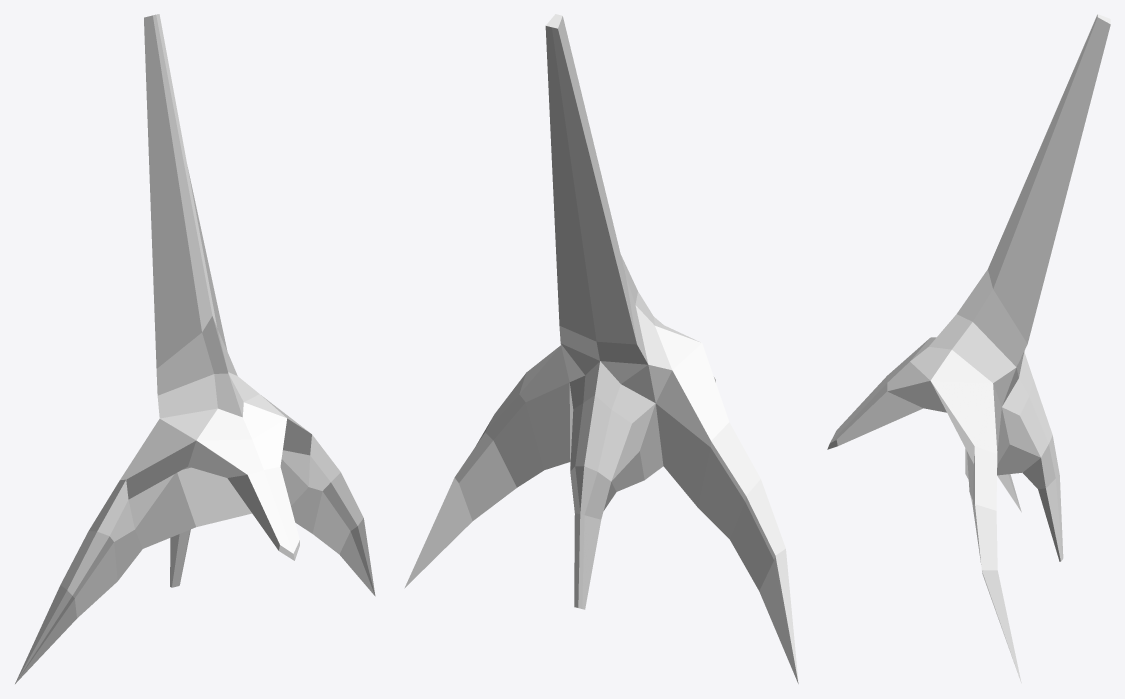
The model's file is head_37.fbx.
3 views of the same model, side by side, from view 1: azimuth 30°, elevation 25°; view 2: azimuth 150°, elevation 25°; view 3: azimuth 270°, elevation 25° (orthographic). The views are drawn at different scales.
Parts seen in each view (by area): view 1: Cube.166; view 2: Cube.166; view 3: Cube.166.
Part boxes in pixels (left/top/right/bottom): Cube.166: left=15, top=14, right=375, bottom=683; Cube.166: left=404, top=14, right=798, bottom=683; Cube.166: left=827, top=14, right=1110, bottom=683.
Size of the model in its own units: 113 by 179 by 78.98.
